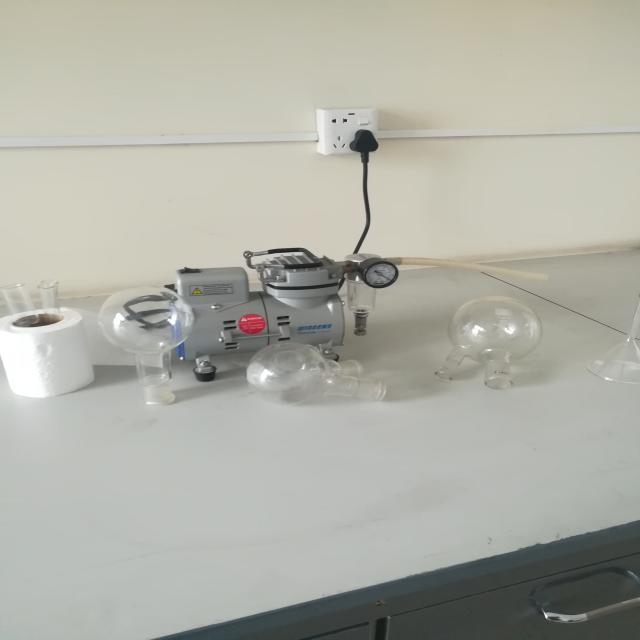Round_Bottom_Flask_Borosilicate_Glass_1_Neck: (78, 279, 213, 407)
Round_Bottom_Flask_Borosilicate_Glass_2_Neck: (426, 281, 549, 404)
Round_Bottom_Flask_Borosilicate_Glass_3_Neck: (235, 326, 411, 451)
